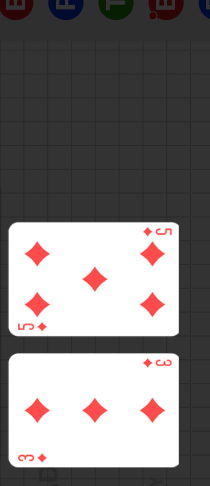3D: (17, 452, 49, 464)
5D: (141, 226, 174, 238)
